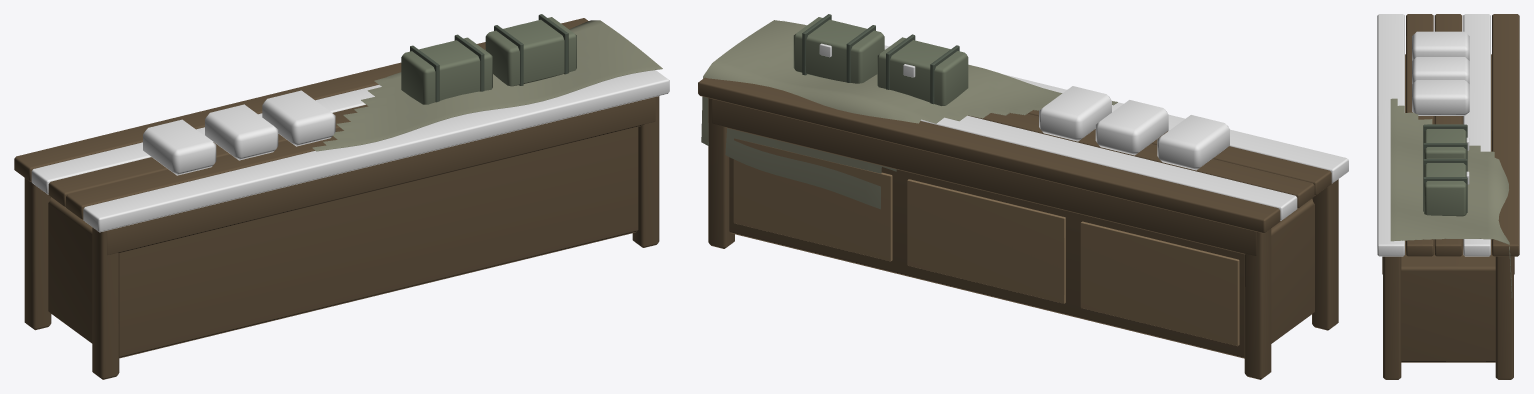
The model's file is MarketCounter62.fbx.
3 views of the same model, side by side, from view 1: azimuth 30°, elevation 25°; view 2: azimuth 150°, elevation 25°; view 3: azimuth 270°, elevation 25° (orthographic). The views are drawn at different scales.
Parts seen in each view (by area): view 1: MarketCounter62; view 2: MarketCounter62; view 3: MarketCounter62.
Part boxes in pixels (x1,y1,x2,y2): MarketCounter62: (14, 14, 669, 379); MarketCounter62: (698, 14, 1348, 379); MarketCounter62: (1377, 14, 1519, 379).
Bounding box in the file's own units: 360 × 127 × 93.4.
